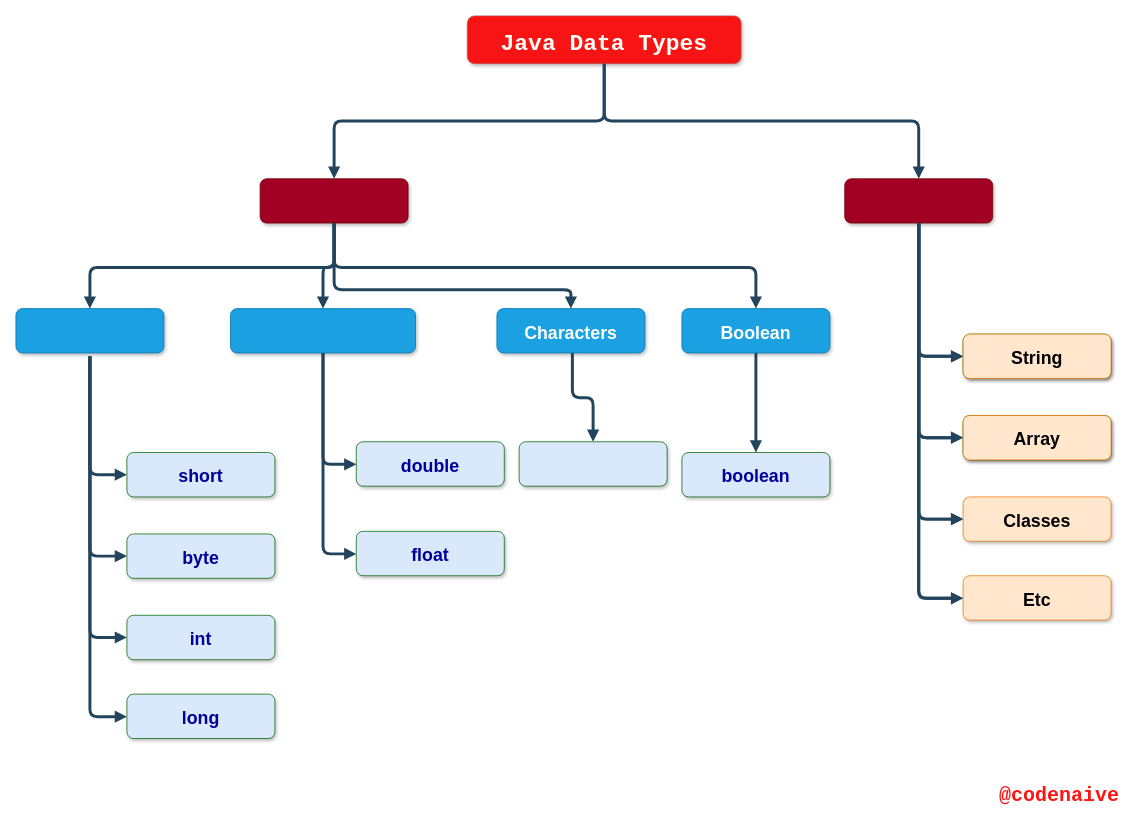
Some shapes in this 1132 by 821 pixel diagram are drawn without their labels. Each missing label, with the centre of its shape:
"char" goes at point 593,464.
"Float-Point Number" goes at point 323,331.
"Integer" goes at point 90,331.
"Non - Primitive" goes at point 919,201.
"Primitive" goes at point 334,201.
